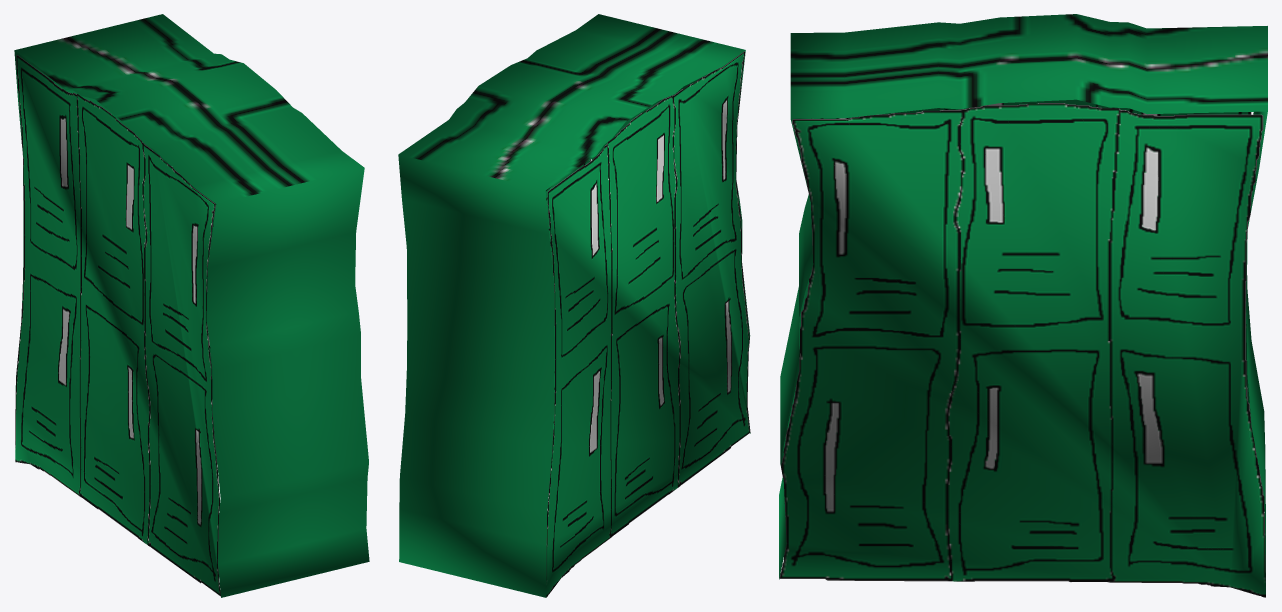
The model's file is Lockers1.fbx.
3 renders of one model, left to right at view 1: azimuth 30°, elevation 25°; view 2: azimuth 150°, elevation 25°; view 3: azimuth 270°, elevation 25°, orthographic. The views are drawn at different scales.
Parts seen in each view (by area): view 1: Plane.001; view 2: Plane.001; view 3: Plane.001.
Part boxes in pixels (<box>): Plane.001: <box>14,14,369,597</box>; Plane.001: <box>398,14,750,597</box>; Plane.001: <box>779,14,1267,597</box>.
Bounding box in the file's own units: 70.42 × 191 × 170.
